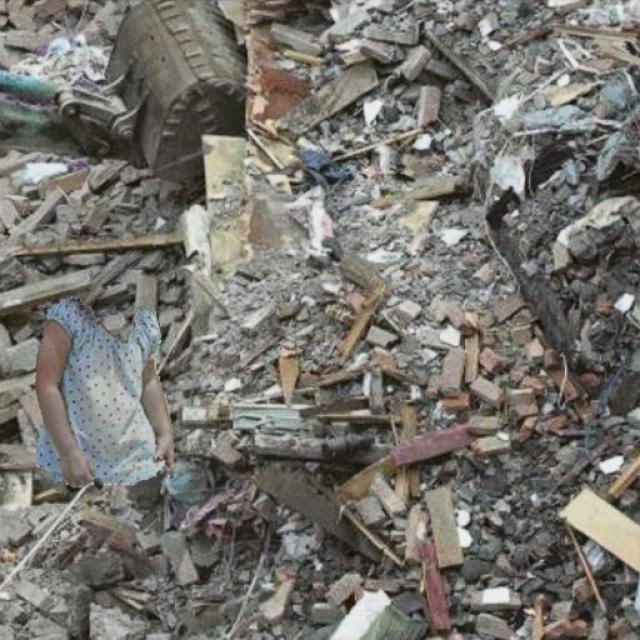Person in Rubble: (35, 296, 173, 486)
